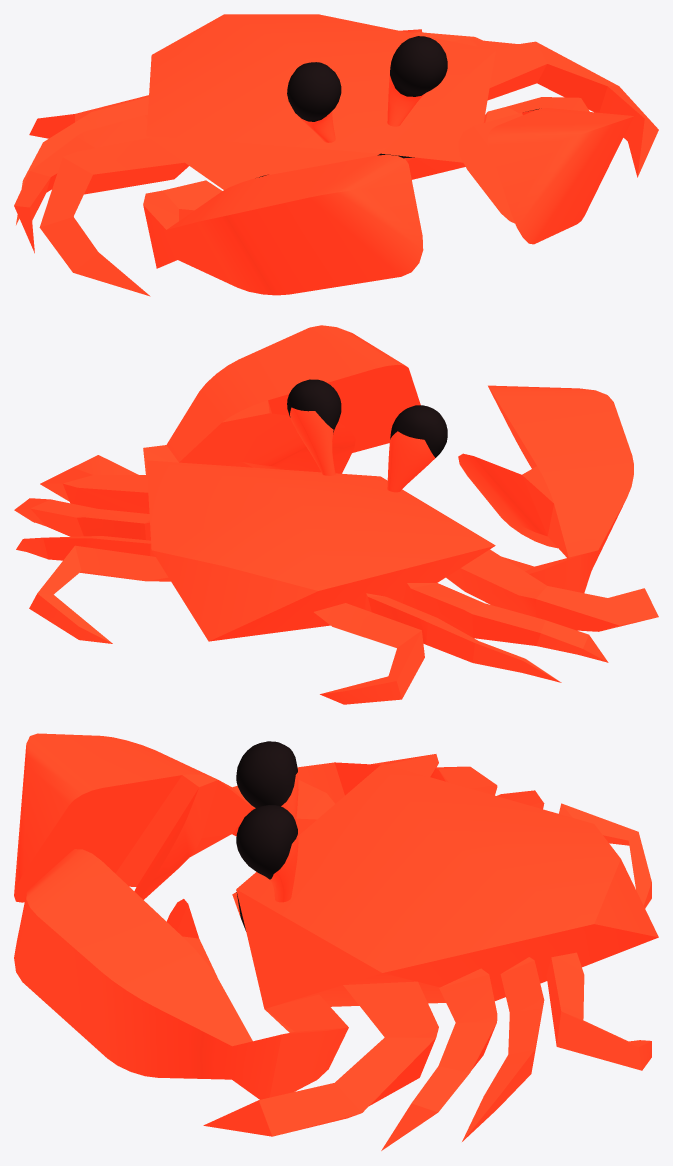
The model's file is crab.fbx.
3 views of the same model, one above another, from view 1: azimuth 30°, elevation 25°; view 2: azimuth 150°, elevation 25°; view 3: azimuth 270°, elevation 25° (orthographic). The views are drawn at different scales.
Parts seen in each view (by area): view 1: crab; view 2: crab; view 3: crab.
Boxes of the visible parts, x1=… form: crab: x1=14, y1=14, x2=658, y2=296; crab: x1=14, y1=325, x2=658, y2=704; crab: x1=14, y1=733, x2=658, y2=1150.
Size of the model in its own units: 39.85 by 10.74 by 30.91.
